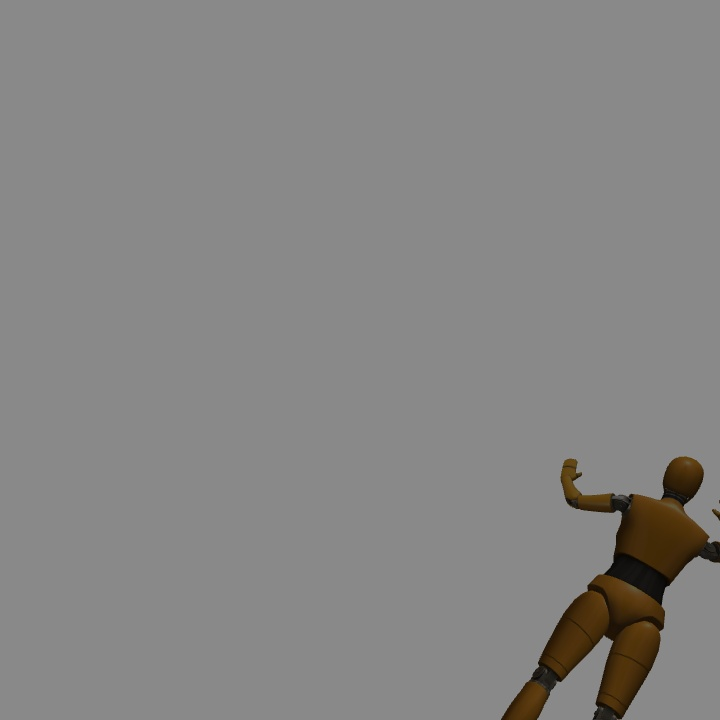victim: (501, 458, 720, 718)
